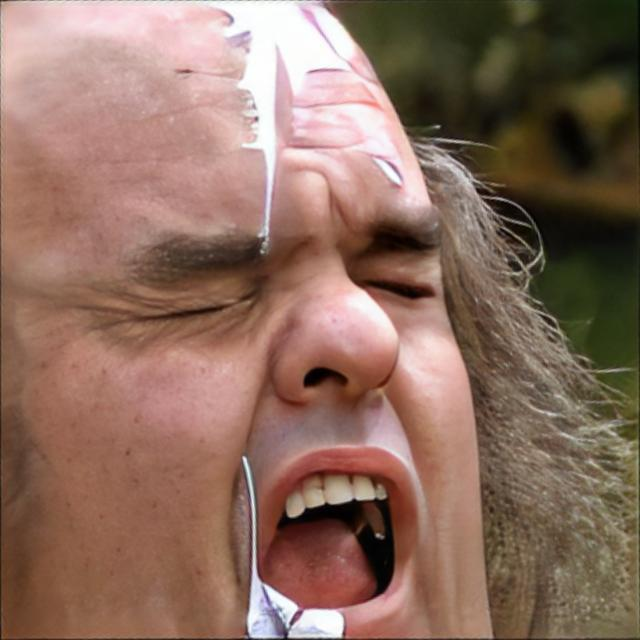anger: (0, 1, 492, 638)
